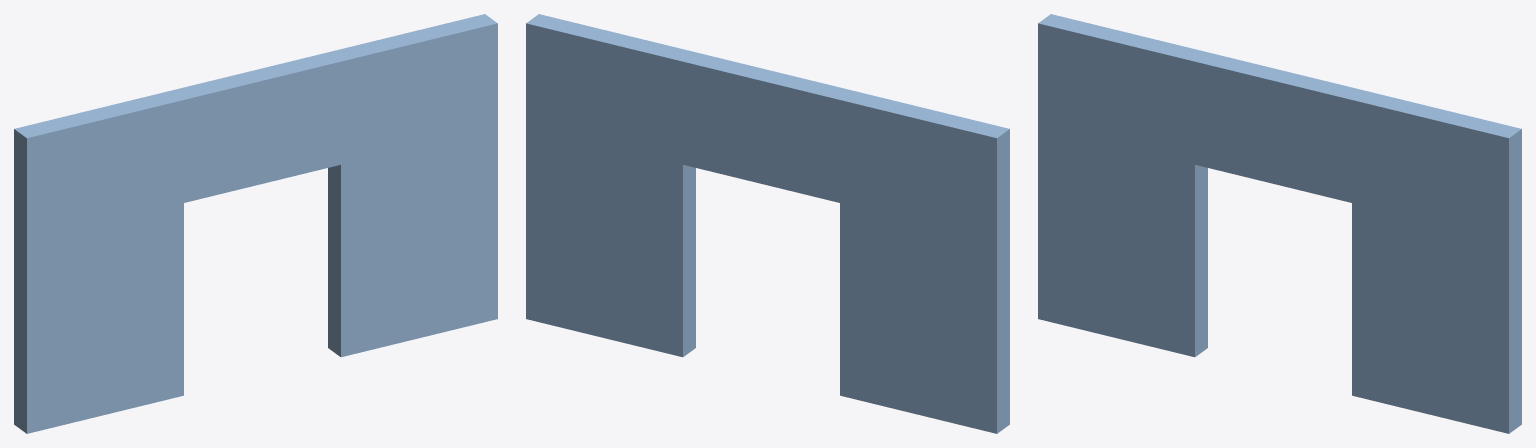
Rendered from Walls and Floors with Doors.fbx_CWall_Flat_Flat_Door.fbx.
The picture shows the model from 3 angles, left to right: view 1: azimuth 30°, elevation 25°; view 2: azimuth 150°, elevation 25°; view 3: azimuth 330°, elevation 25°; orthographic projection.
Parts seen in each view (by area): view 1: CWall Flat Flat Door; view 2: CWall Flat Flat Door; view 3: CWall Flat Flat Door.
Boxes of the visible parts, x1,y1,x2,y2 form: CWall Flat Flat Door: (14, 14, 497, 433); CWall Flat Flat Door: (526, 14, 1009, 433); CWall Flat Flat Door: (1038, 14, 1521, 433).
Size of the model in its own units: 1500 by 900 by 70.71.
